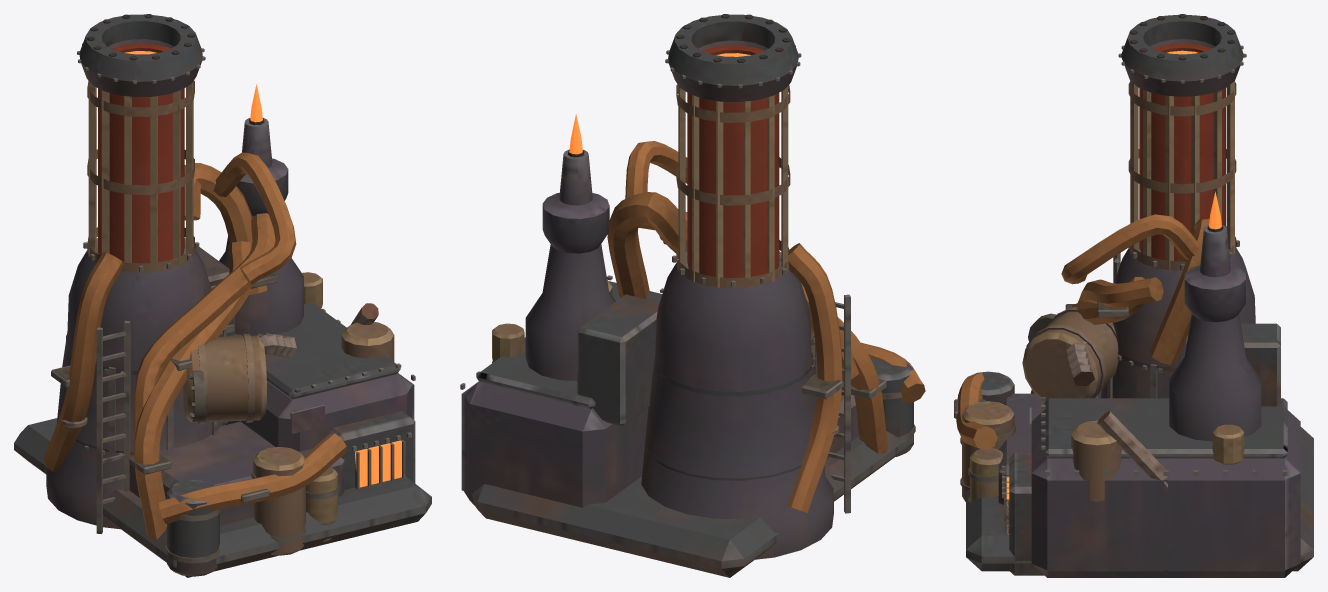
File: heating-tower.glb
3 renders of one model, left to right at view 1: azimuth 30°, elevation 25°; view 2: azimuth 150°, elevation 25°; view 3: azimuth 270°, elevation 25°, orthographic. The views are drawn at different scales.
Parts seen in each view (by area): view 1: body, anim_glow_heat, anim_glow_fire; view 2: body, anim_glow_heat, anim_glow_fire; view 3: body, anim_glow_heat, anim_glow_fire.
Part boxes in pixels (x1=…): body: x1=14, y1=14, x2=431, y2=577; anim_glow_heat: x1=44, y1=152, x2=346, y2=539; anim_glow_fire: x1=98, y1=43, x2=184, y2=263; body: x1=460, y1=14, x2=915, y2=577; anim_glow_heat: x1=607, y1=141, x2=925, y2=513; anim_glow_fire: x1=687, y1=45, x2=779, y2=278; body: x1=954, y1=14, x2=1313, y2=577; anim_glow_heat: x1=956, y1=214, x2=1209, y2=450; anim_glow_fire: x1=1139, y1=43, x2=1225, y2=261.
Size of the model in its own units: 2.58 by 3.78 by 2.74.
Materials: 4 (4 with a texture image).
